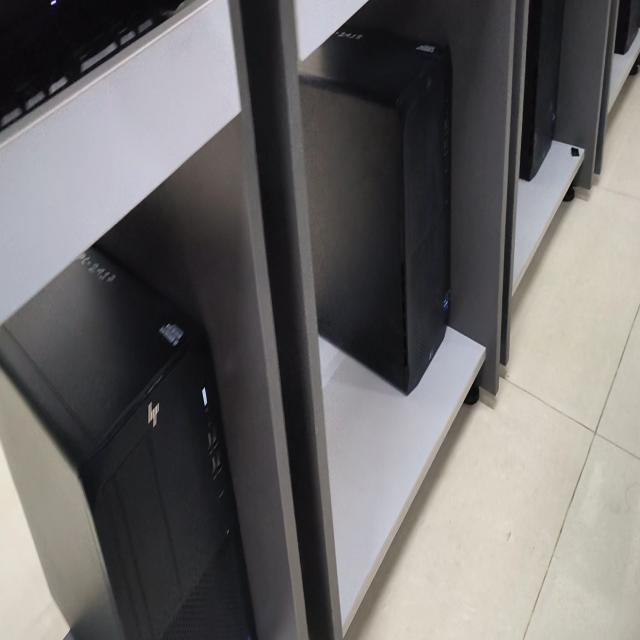Cpu: (0, 246, 254, 639), (300, 30, 450, 393), (519, 0, 565, 180), (614, 0, 640, 55)
Keyboard: (0, 0, 183, 130)
